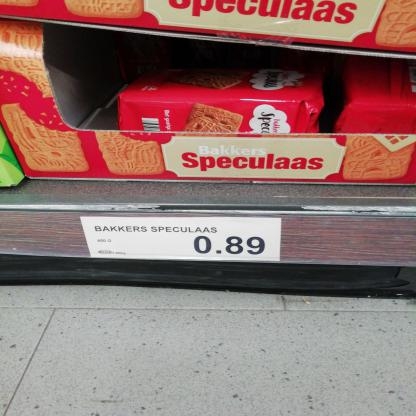prtg: (80, 218, 283, 263)
